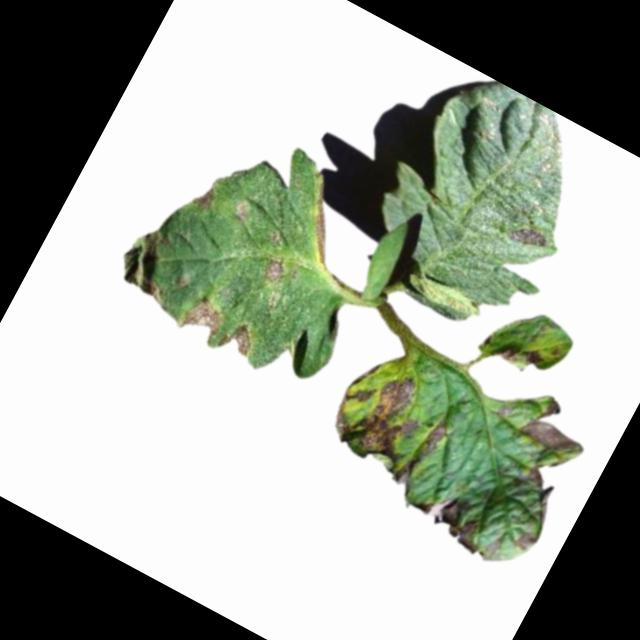Early_blight: (321, 348, 440, 473), (405, 475, 494, 553), (283, 178, 356, 263), (515, 392, 596, 464), (391, 411, 453, 494), (506, 462, 574, 537), (178, 290, 230, 344), (492, 331, 547, 379), (215, 315, 261, 363), (510, 217, 553, 256), (189, 180, 222, 214), (260, 251, 291, 285), (509, 526, 539, 556)
